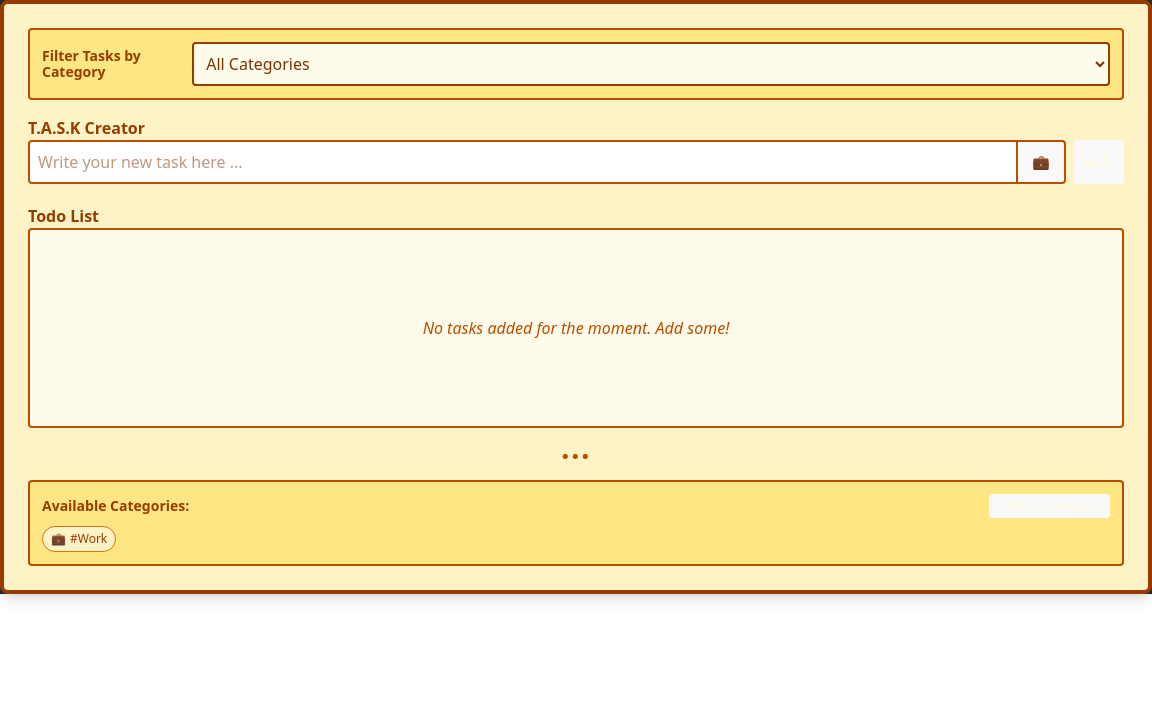
Test: AddTaskForm (inside Main) › shows a validation error when the task title is too short
This screenshot has width=1152, height=720.
Type "A" into the field with placeholder "Write your new task here ...". click: {"x": 524, "y": 162}
box: [28,140,1020,184]
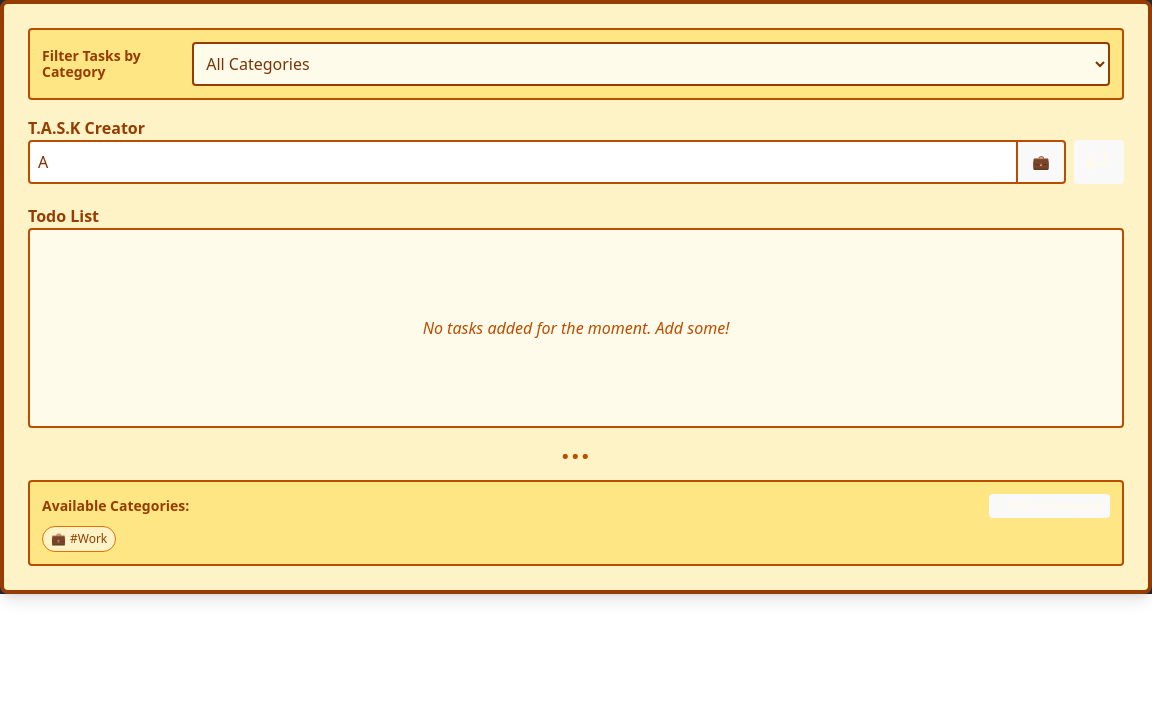
Click the button "↵". click: {"x": 1099, "y": 162}
box: [1074,140,1124,184]
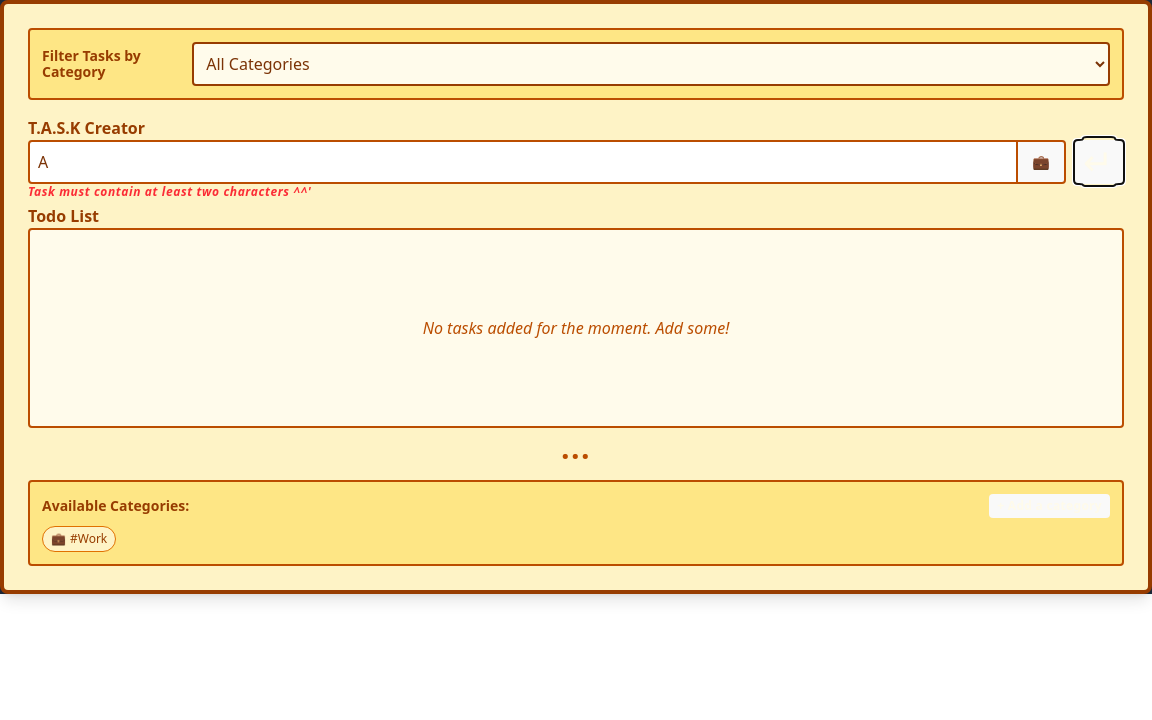
Expected: the text "Task must contain at least two characters ^^'" is shown, [28,183,312,200]
